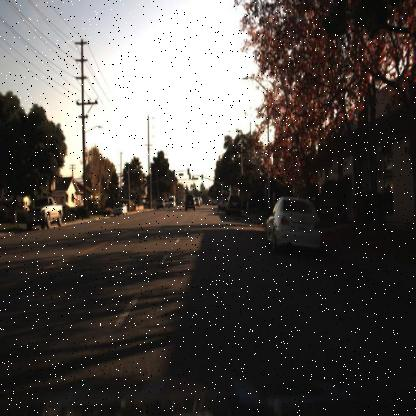car: (265, 192, 325, 252), (22, 194, 64, 227), (227, 190, 243, 216), (112, 199, 128, 223), (110, 200, 128, 218), (184, 193, 196, 214), (155, 193, 165, 211), (166, 194, 176, 210)
